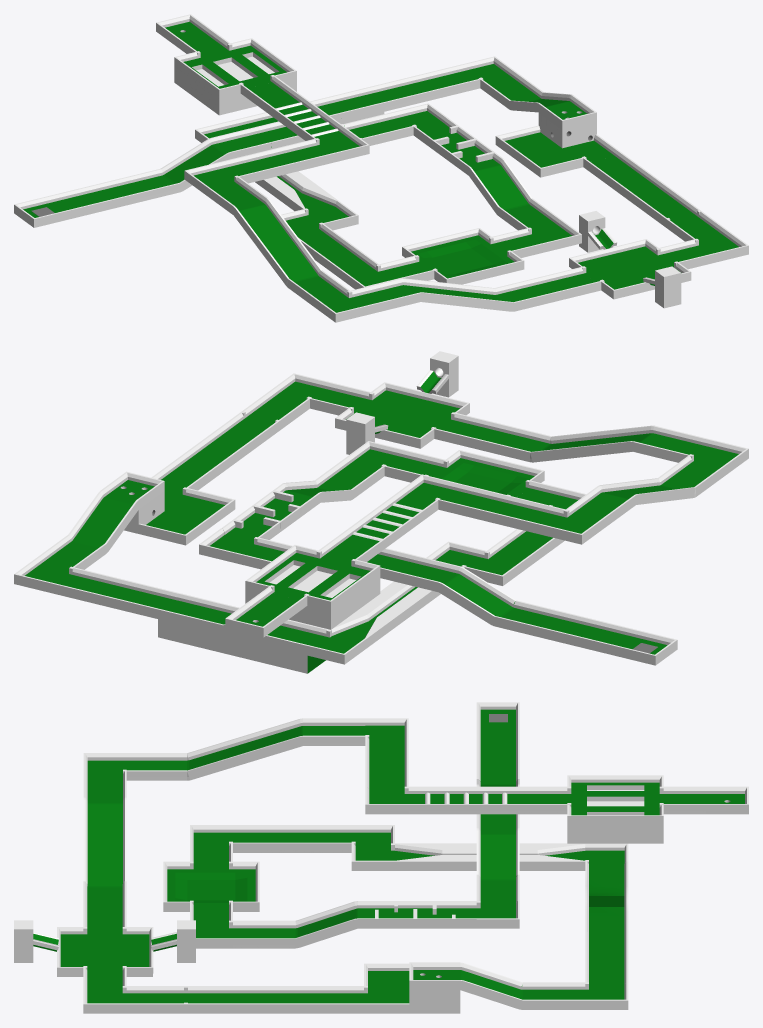
Rendered from Level17Model.obj.
The picture shows the model from 3 angles, top to bottom: view 1: azimuth 30°, elevation 25°; view 2: azimuth 150°, elevation 25°; view 3: azimuth 270°, elevation 25°; orthographic projection. The views are drawn at different scales.
Parts seen in each view (by area): view 1: polySurface656; view 2: polySurface656; view 3: polySurface656.
Boxes of the visible parts, x1,y1,x2,y2 form: polySurface656: (14, 14, 748, 322); polySurface656: (14, 351, 748, 673); polySurface656: (14, 702, 748, 1013).
Bounding box in the file's own units: 34.23 × 5.34 × 38.2.
